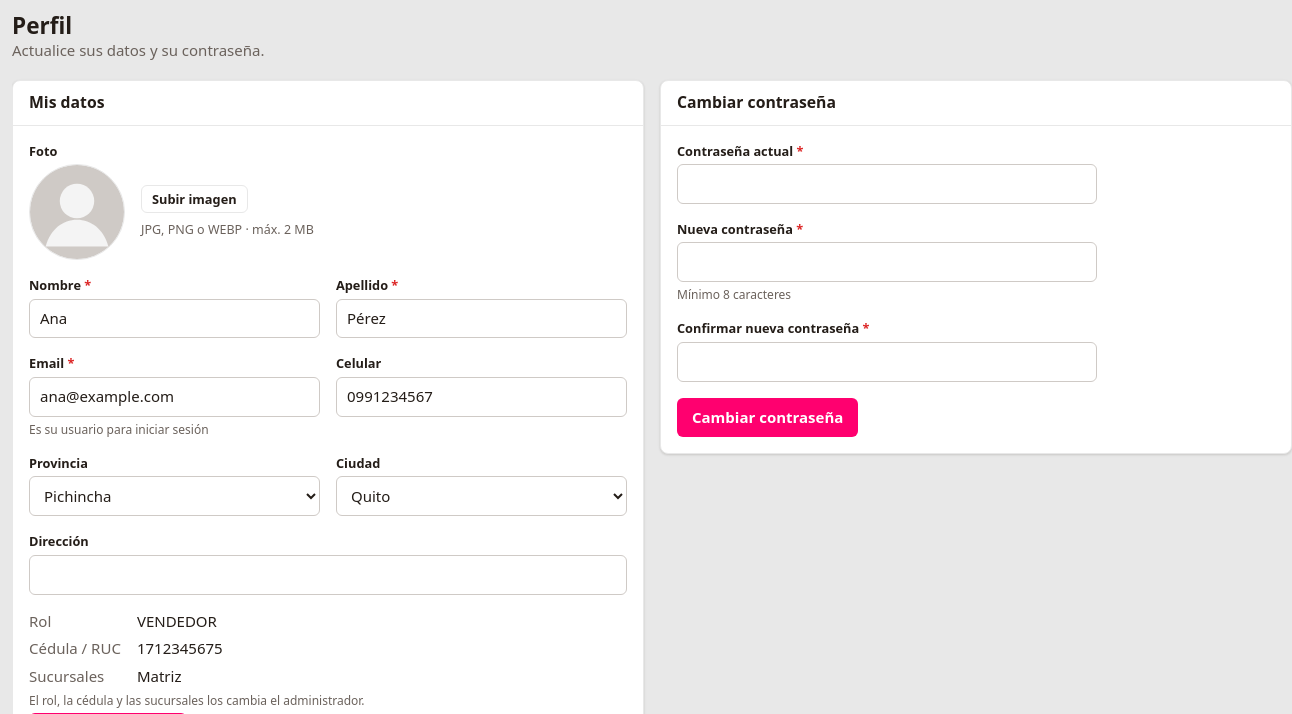
ProfilePage › shows the server error on the current password field
Type "equivocada" into the password field labelled "Contraseña actual *". click: (887, 184)
box: [677,164,1097,204]
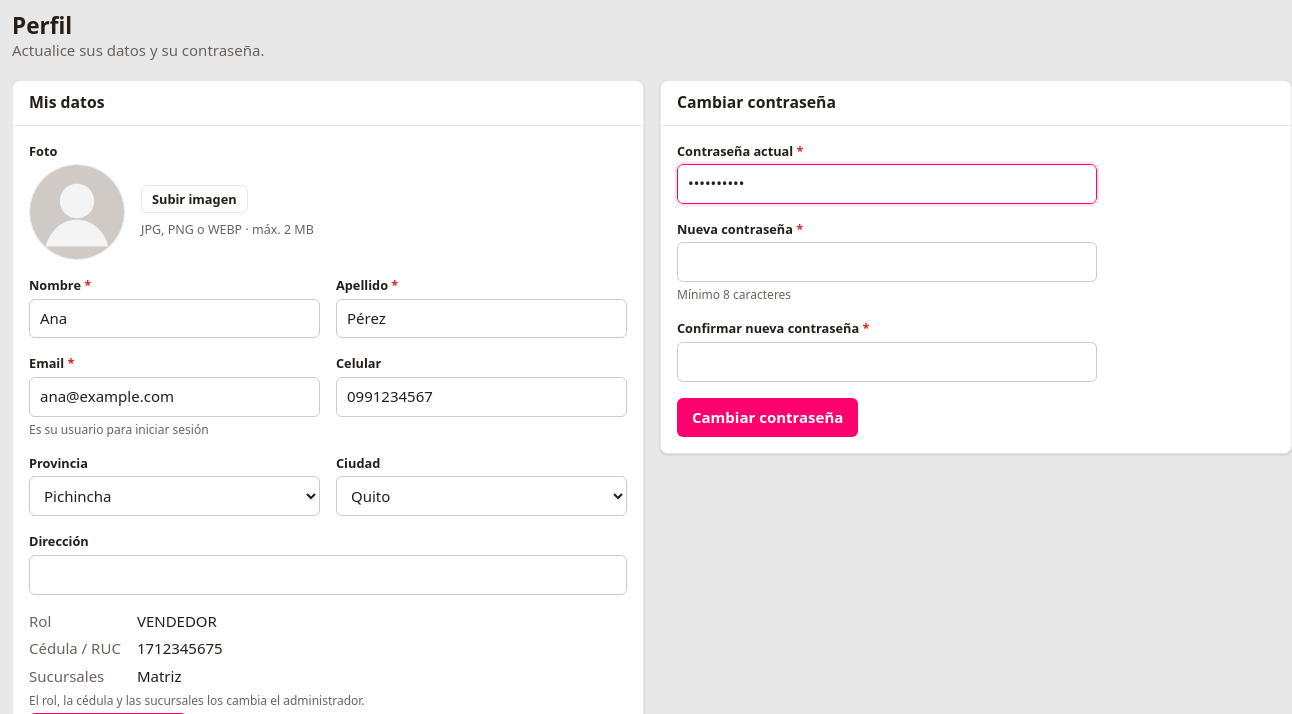
Type "NuevaClave99" into the password field labelled "Nueva contraseña *". click: (887, 262)
box: [677,242,1097,282]
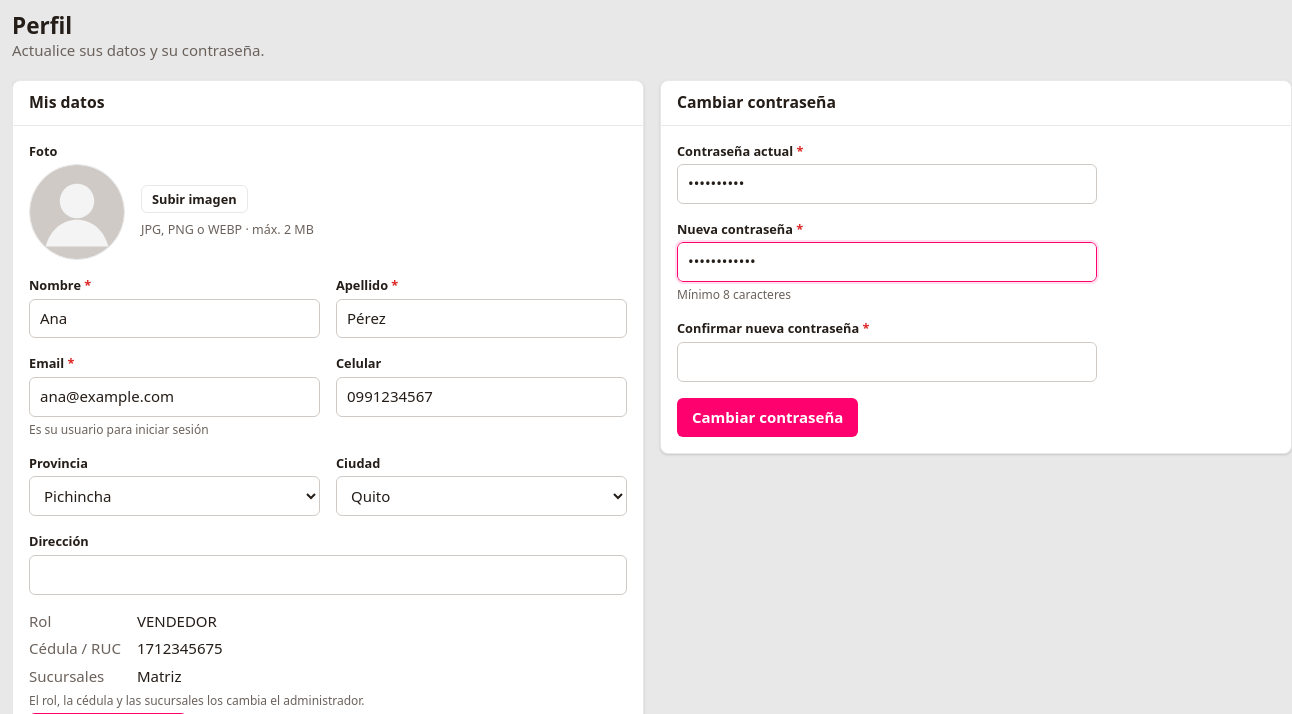
Type "NuevaClave99" into the password field labelled "Confirmar nueva contraseña *". click: (887, 362)
box: [677,342,1097,382]
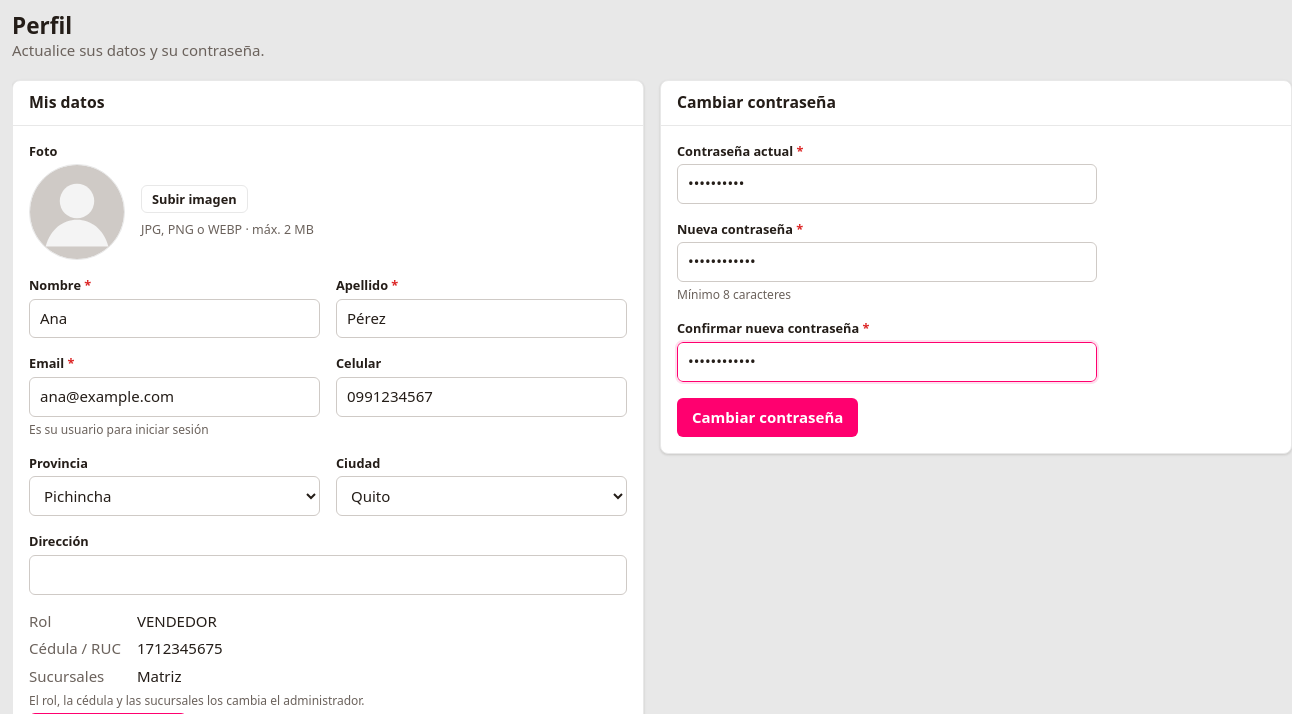
Click the button "Cambiar contraseña". click: click(768, 418)
box: [677,398,858,438]
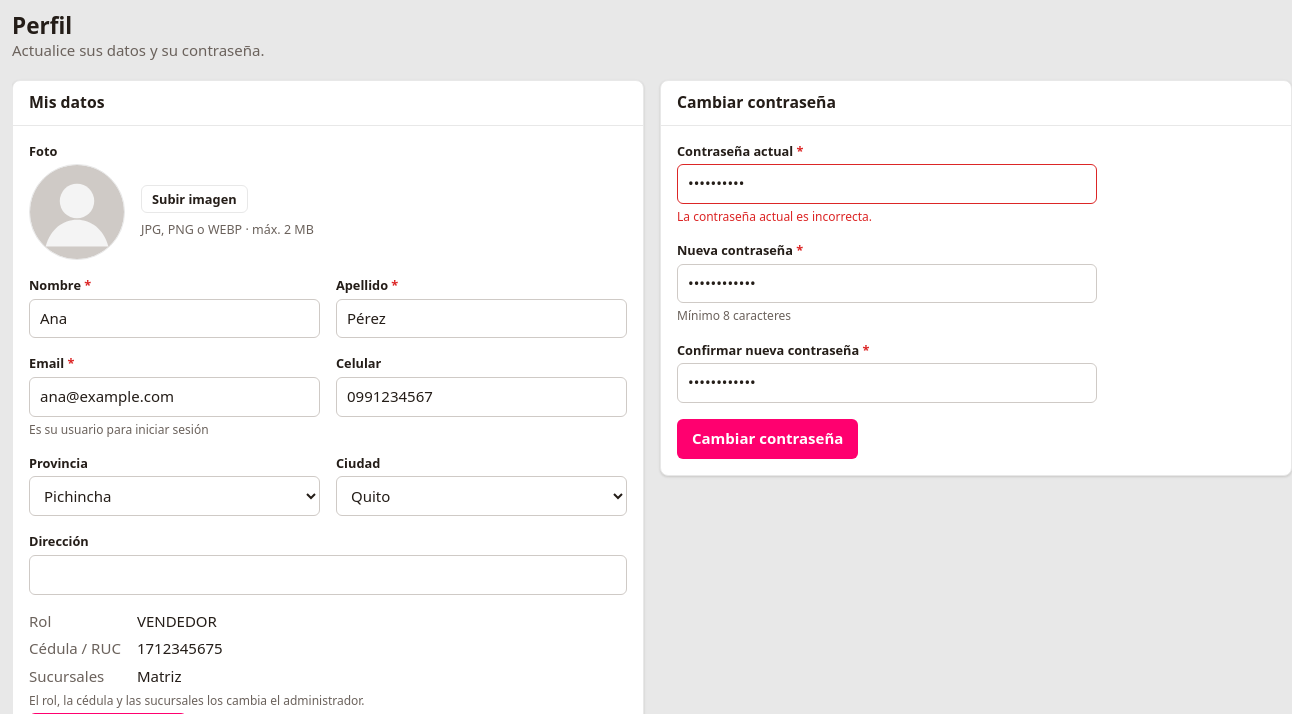
expect the text "La contraseña actual es incorrecta." is shown: met, box [677,208,872,225]
